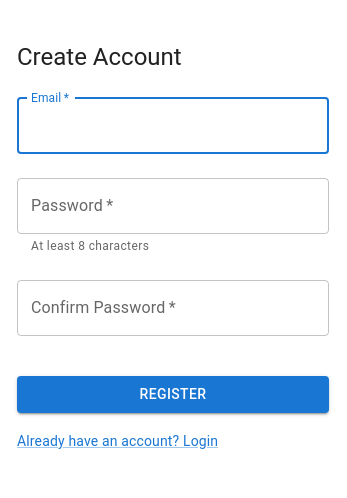
Scenario: RegisterPage › shows error alert on registration failure
Type "taken@example.com" into the field labelled "Email *" at (173, 126), box left=17, top=98, right=329, bottom=154
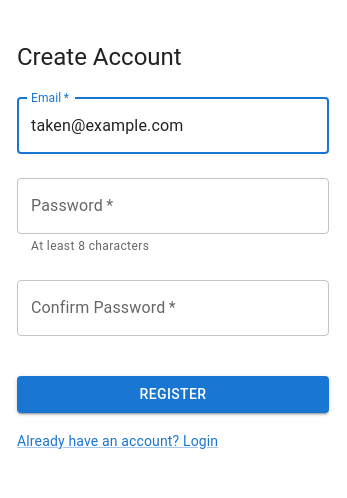
Type "password123" into the password field labelled "Password *" at (173, 206), box left=17, top=178, right=329, bottom=234
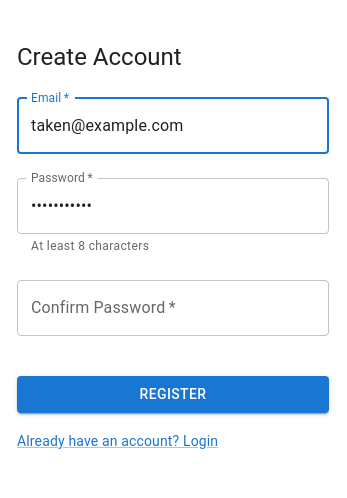
Type "password123" into the password field labelled "Confirm Password *" at (173, 308), box left=17, top=280, right=329, bottom=336
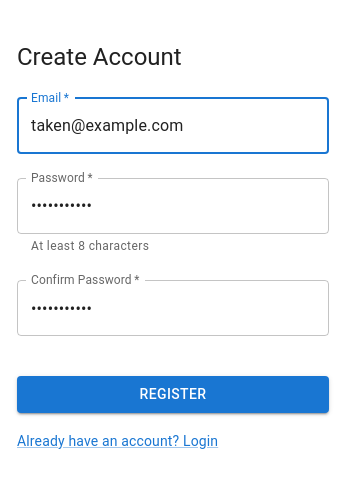
Click the button "Register" at (173, 395), box left=17, top=376, right=329, bottom=413
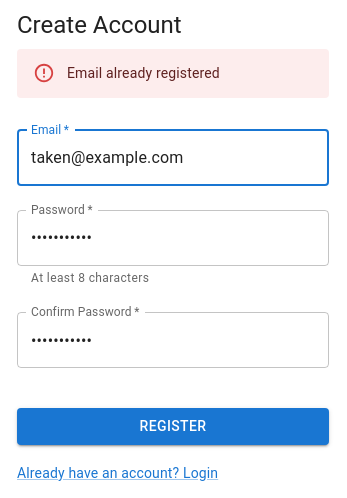
Expected: the text "Email already registered" is shown, left=67, top=66, right=220, bottom=82
